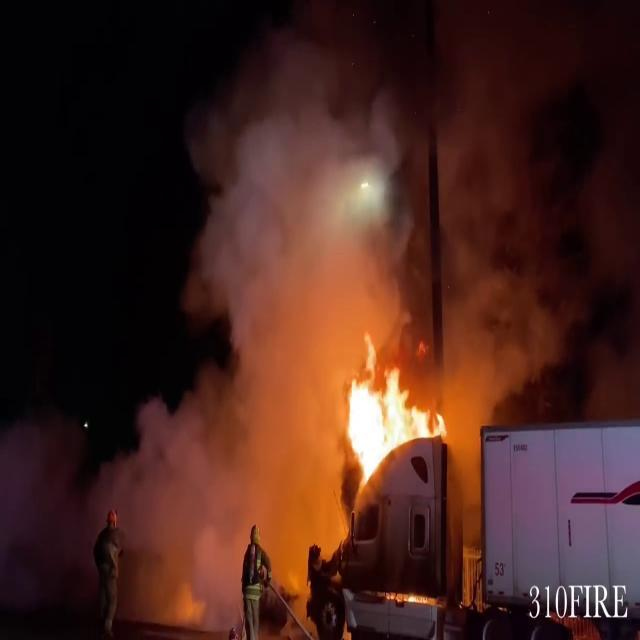Fire: (336, 351, 448, 485)
Smoke: (167, 8, 638, 374), (90, 40, 368, 621)
